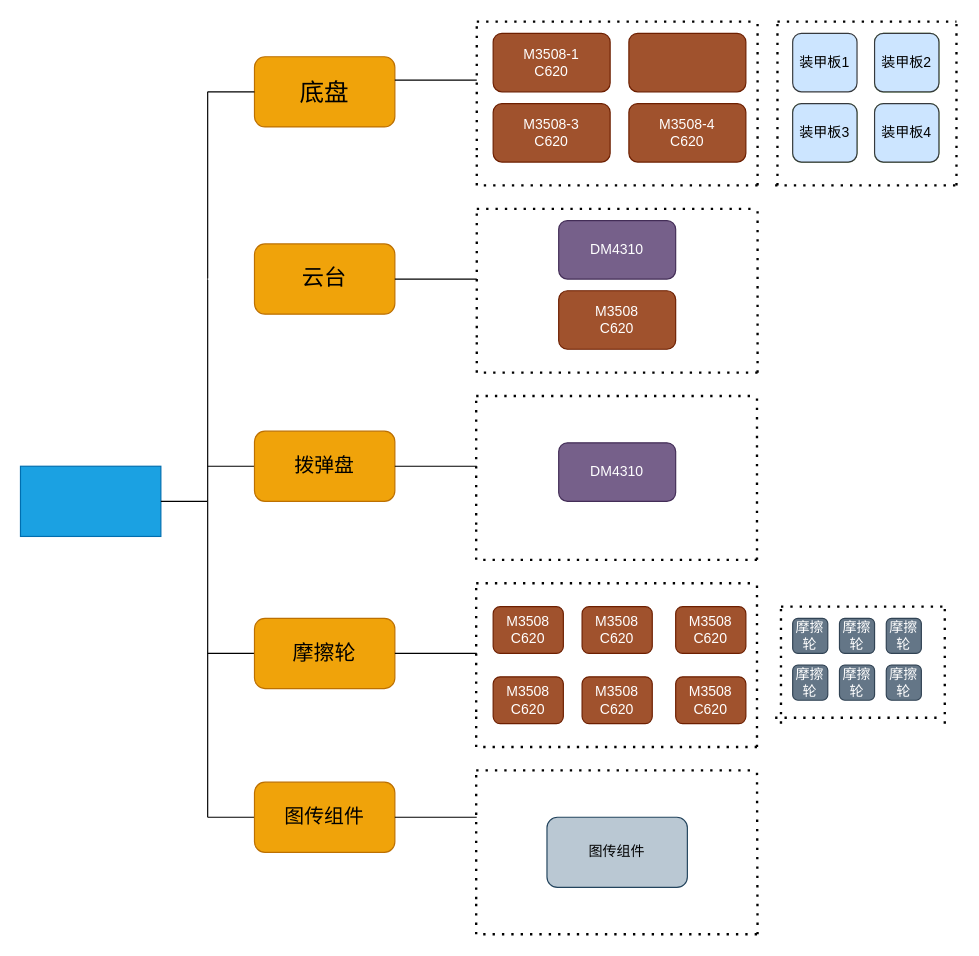
The diagram is 979 pixels wide and 956 high, and some of its shapes have lost their labels. Each missing label, with the centre of its shape:
M3508-2 C620: point (687, 62)
英雄: point (90, 500)
